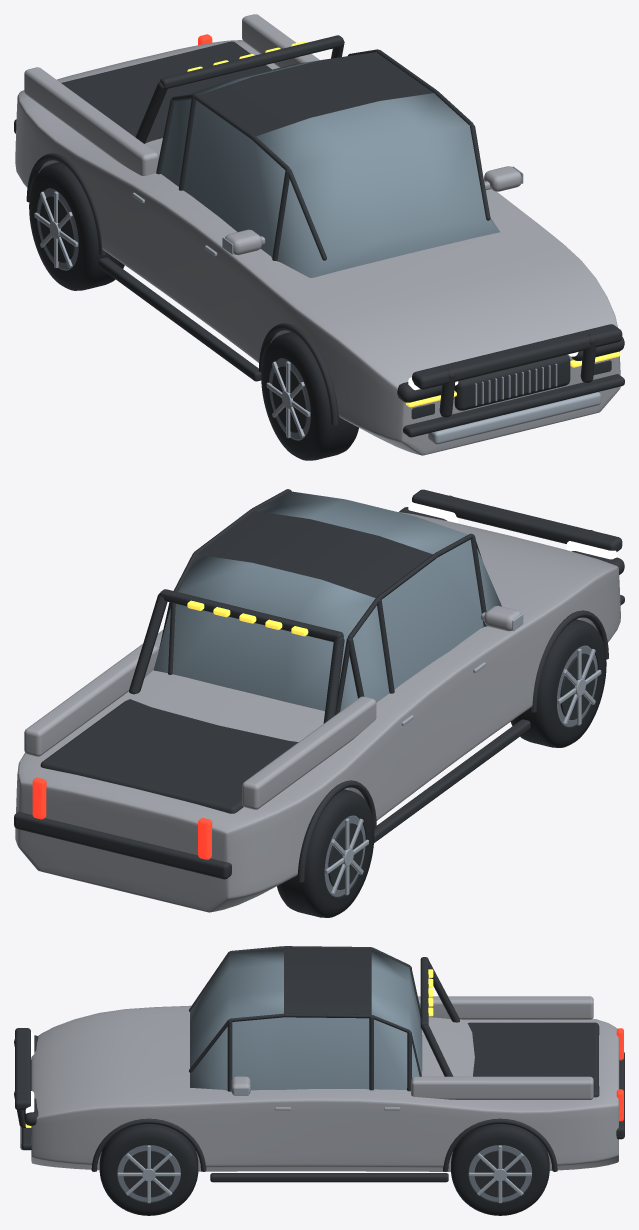
File: bulwark.fbx
3 views of the same model, one above another, from view 1: azimuth 30°, elevation 25°; view 2: azimuth 150°, elevation 25°; view 3: azimuth 270°, elevation 25° (orthographic). The views are drawn at different scales.
Parts seen in each view (by area): view 1: Sculpted exterior panels, Cabin glazing, Crowned roof panel, Bed liner, Performance tyre FL, Bed guard, Performance tyre RL, Bulwark upper brush guard, Recessed radiator grille, Front lower splitter, Low sill molding, Brushed front skid plate (+13 smaller); view 2: Sculpted exterior panels, Cabin glazing, Bed liner, Crowned roof panel, Performance tyre RL, Bed guard, Performance tyre FL, Bed guard.001, Rear diffuser, Bulwark upper brush guard, Low sill molding, Bed cage crossbar (+12 smaller); view 3: Sculpted exterior panels, Cabin glazing, Bed liner, Crowned roof panel, Performance tyre FR, Performance tyre RR, Bed guard.001, Bed guard, Low sill molding.001, Brake rotor.003, Brake rotor.001, Bulwark upper brush guard (+10 smaller).
Boxes of the visible parts, box(x1,y1,x2,y2) form: Sculpted exterior panels: box(15, 40, 620, 455); Cabin glazing: box(161, 60, 499, 277); Crowned roof panel: box(198, 52, 433, 136); Bed liner: box(61, 41, 271, 143); Performance tyre FL: box(261, 332, 358, 460); Bed guard: box(24, 67, 158, 175); Performance tyre RL: box(29, 162, 124, 290); Bulwark upper brush guard: box(412, 324, 622, 389); Recessed radiator grille: box(454, 354, 570, 410); Front lower splitter: box(403, 374, 624, 437); Low sill molding: box(98, 257, 261, 381); Brushed front skid plate: box(428, 392, 600, 444); Sculpted exterior panels: box(15, 512, 620, 912); Cabin glazing: box(153, 491, 501, 711); Bed liner: box(40, 699, 298, 813); Crowned roof panel: box(197, 511, 432, 597); Performance tyre RL: box(277, 789, 374, 917); Bed guard: box(242, 696, 376, 809); Performance tyre FL: box(511, 619, 606, 747); Bed guard.001: box(24, 644, 158, 756); Rear diffuser: box(14, 811, 231, 879); Bulwark upper brush guard: box(412, 489, 622, 551); Low sill molding: box(374, 719, 530, 842); Bed cage crossbar: box(160, 589, 343, 641); Sculpted exterior panels: box(31, 1005, 619, 1171); Cabin glazing: box(190, 948, 422, 1090); Bed liner: box(467, 1022, 599, 1097); Crowned roof panel: box(284, 948, 371, 1014); Performance tyre FR: box(99, 1124, 198, 1215); Performance tyre RR: box(451, 1124, 549, 1215); Bed guard.001: box(411, 1076, 593, 1099); Bed guard: box(418, 996, 593, 1019); Low sill molding.001: box(210, 1173, 448, 1182); Brake rotor.003: box(474, 1150, 525, 1197); Brake rotor.001: box(123, 1150, 174, 1197); Bulwark upper brush guard: box(15, 1028, 30, 1110).
Size of the model in its own units: 2.39 by 1.92 by 5.65.
